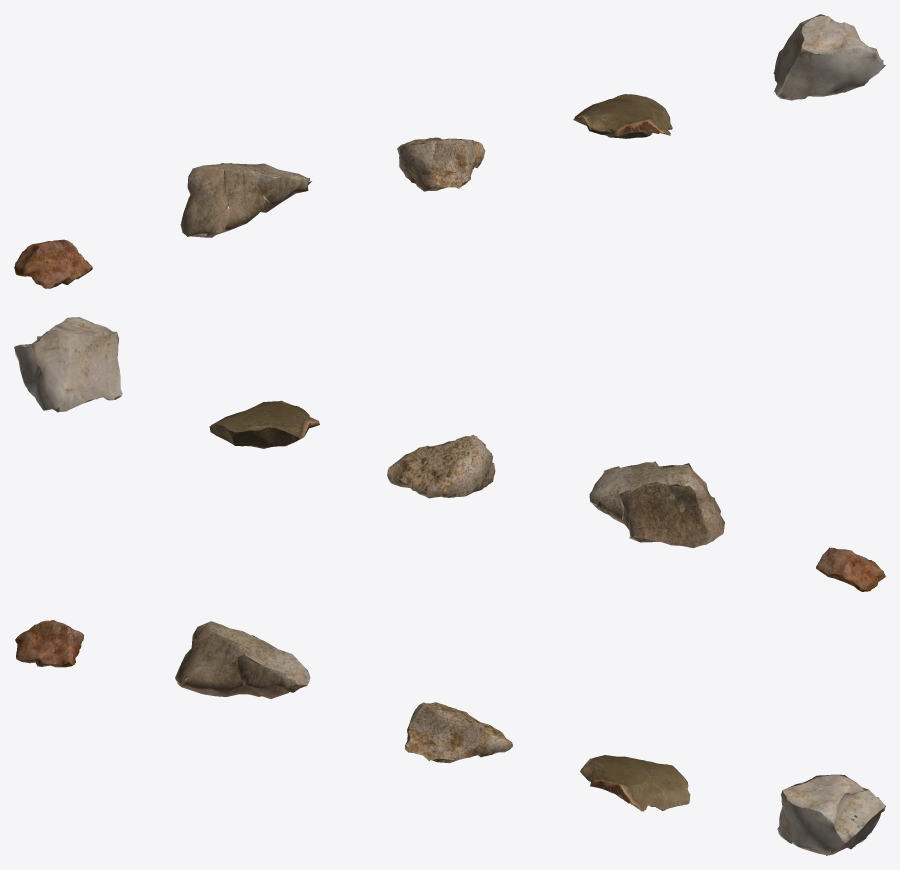
Rendered from kf_stones.glb.
3 views of the same model, one above another, from view 1: azimuth 30°, elevation 25°; view 2: azimuth 150°, elevation 25°; view 3: azimuth 330°, elevation 25° (orthographic).
Parts seen in each view (by area): view 1: namaqualand_stones_01_e, namaqualand_stones_01_b, namaqualand_stones_01_c, namaqualand_stones_01_d, namaqualand_stones_01_a; view 2: namaqualand_stones_01_b, namaqualand_stones_01_e, namaqualand_stones_01_c, namaqualand_stones_01_d, namaqualand_stones_01_a; view 3: namaqualand_stones_01_b, namaqualand_stones_01_e, namaqualand_stones_01_c, namaqualand_stones_01_d, namaqualand_stones_01_a.
Boxes of the visible parts, x1,y1,x2,y2 form: namaqualand_stones_01_e: [773, 14, 885, 100]; namaqualand_stones_01_b: [180, 163, 311, 237]; namaqualand_stones_01_c: [397, 137, 485, 191]; namaqualand_stones_01_d: [573, 94, 672, 138]; namaqualand_stones_01_a: [14, 239, 92, 288]; namaqualand_stones_01_b: [589, 461, 724, 548]; namaqualand_stones_01_e: [14, 317, 122, 412]; namaqualand_stones_01_c: [387, 435, 495, 498]; namaqualand_stones_01_d: [209, 400, 319, 448]; namaqualand_stones_01_a: [816, 547, 885, 591]; namaqualand_stones_01_b: [175, 621, 310, 698]; namaqualand_stones_01_e: [777, 774, 885, 855]; namaqualand_stones_01_c: [405, 702, 512, 763]; namaqualand_stones_01_d: [580, 755, 690, 811]; namaqualand_stones_01_a: [15, 620, 83, 667].
Bounding box in the file's own units: 1.02 × 0.0838 × 0.1126.
Materials: 1 (1 with a texture image).
